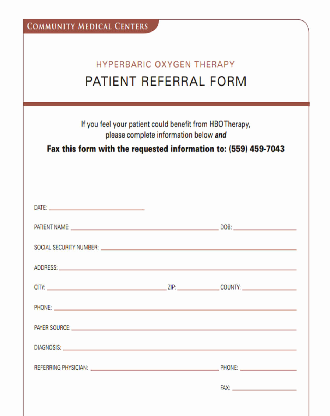textline: (53, 299, 300, 314), (69, 320, 300, 334), (58, 259, 300, 272), (61, 339, 300, 352), (99, 239, 300, 252), (89, 358, 221, 373), (69, 221, 221, 232), (46, 281, 167, 292), (232, 378, 300, 394), (47, 202, 147, 212), (239, 359, 299, 374), (232, 220, 300, 233), (241, 280, 299, 292), (176, 281, 221, 293)
